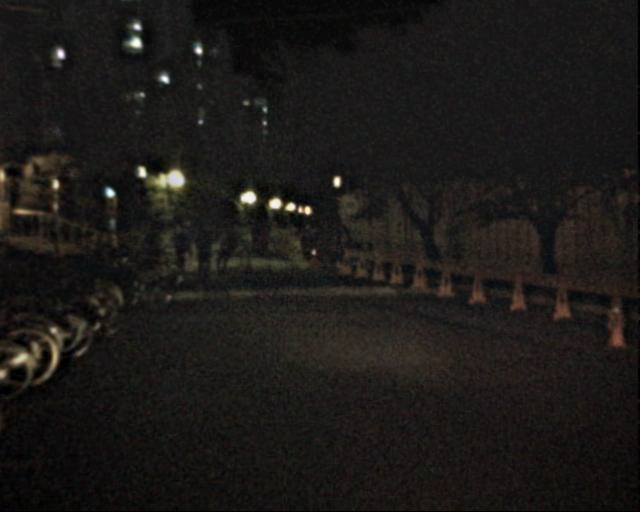person: (193, 221, 216, 278), (144, 219, 165, 269), (214, 226, 233, 273), (172, 223, 191, 269), (335, 224, 354, 270), (183, 216, 199, 256), (249, 222, 269, 252)
